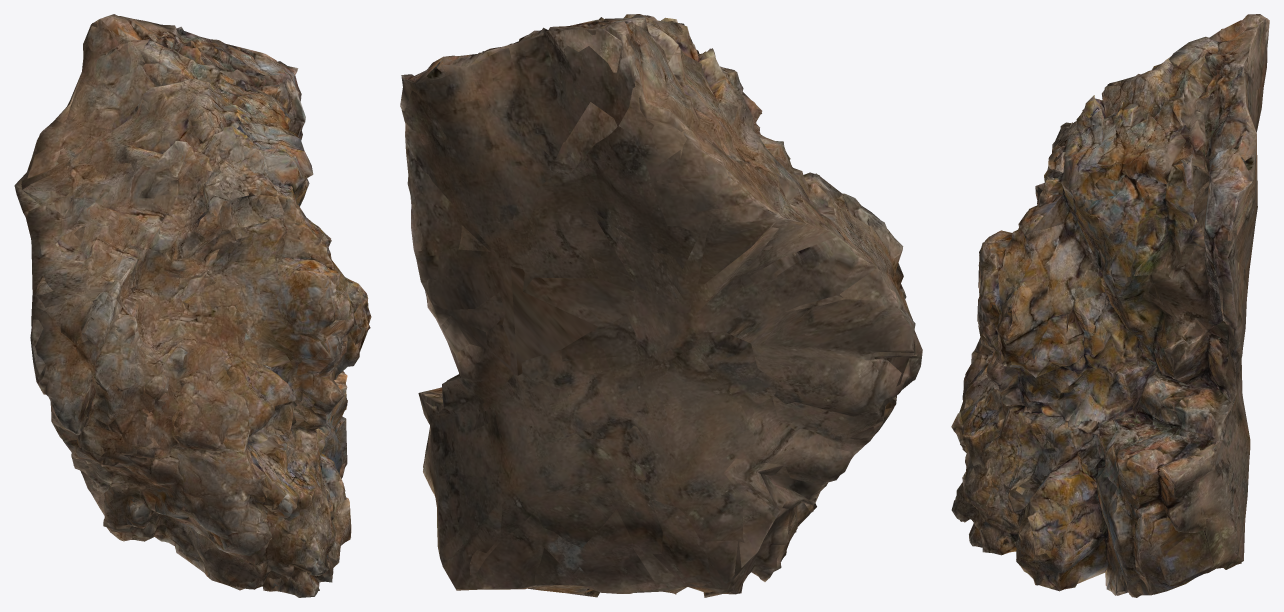
File: limestone.glb
The picture shows the model from 3 angles, left to right: view 1: azimuth 30°, elevation 25°; view 2: azimuth 150°, elevation 25°; view 3: azimuth 270°, elevation 25°; orthographic projection. The views are drawn at different scales.
Visible parts, largest first — view 1: limestone-near, limestone-far; view 2: limestone-near, limestone-far; view 3: limestone-near, limestone-far.
Part boxes in pixels (left/top/right/bottom): limestone-near: left=14, top=14, right=371, bottom=597; limestone-far: left=21, top=16, right=368, bottom=594; limestone-near: left=400, top=14, right=922, bottom=597; limestone-far: left=401, top=14, right=922, bottom=597; limestone-near: left=951, top=14, right=1269, bottom=597; limestone-far: left=955, top=18, right=1267, bottom=597.
Size of the model in its own units: 1.27 by 1.83 by 1.
1 material, 1 textured.
